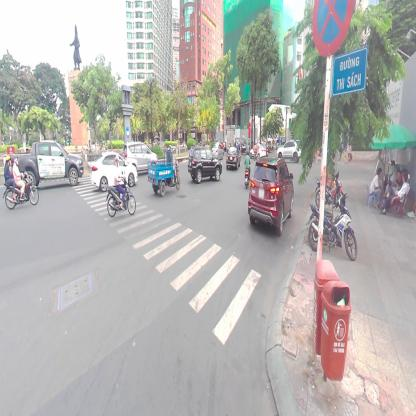Cam dung va do: (312, 0, 354, 58)
